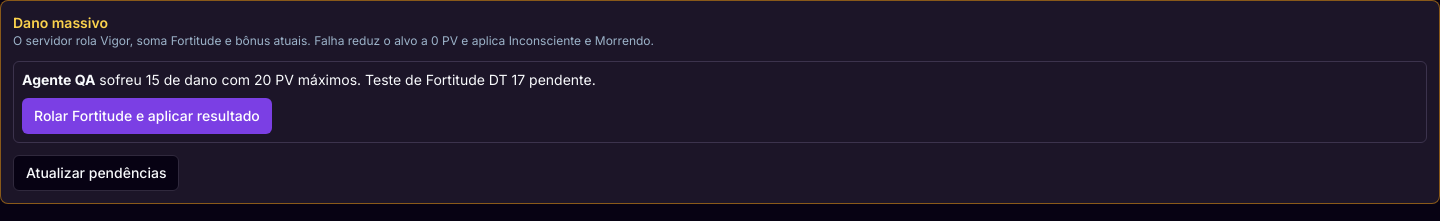
Test: painel de dano massivo › explica o requisito e mostra o resultado confirmado pelo servidor
Check: the text "sofreu 15 de dano com 20 PV máximos" is shown, box [22,71,596,88]
Step 1. Click the button "Rolar Fortitude e aplicar resultado" → (147, 116), box [22,98,272,134]
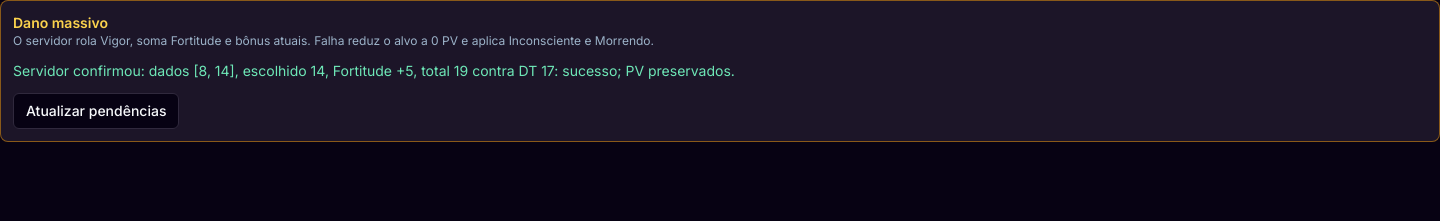
Check: the message shows "total 19 contra DT 17: sucesso; PV preservados", box [13,62,735,79]
